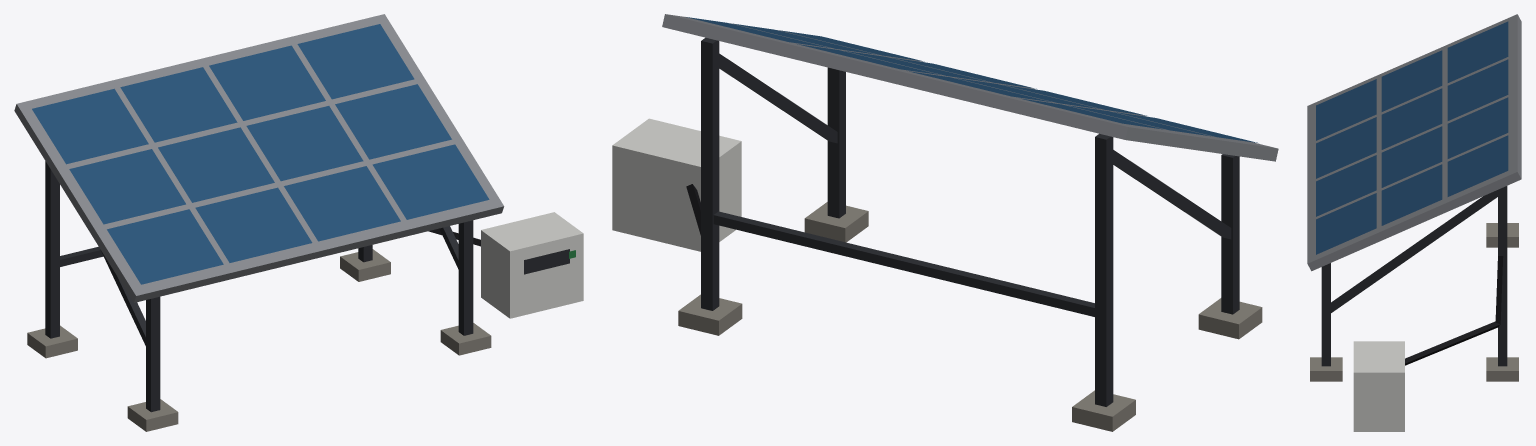
Rendered from prop_solar.3d50ad61322f.glb.
3 views of the same model, side by side, from view 1: azimuth 30°, elevation 25°; view 2: azimuth 150°, elevation 25°; view 3: azimuth 270°, elevation 25° (orthographic). The views are drawn at different scales.
Parts seen in each view (by area): view 1: body; view 2: body; view 3: body.
Part boxes in pixels (x1,y1,x2,y2): body: (14,14,583,431); body: (612,14,1278,431); body: (1307,14,1521,431).
Bounding box in the file's own units: 2.06 × 1.02 × 0.9179.
